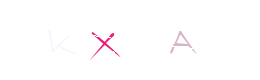3: (89, 0, 169, 80)
A: (119, 0, 199, 80)
K: (64, 0, 144, 80)
X: (65, 0, 145, 80)
